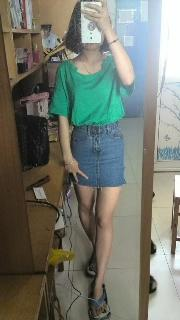short sleeve top: (47, 55, 136, 126)
skirt: (70, 120, 127, 187)
